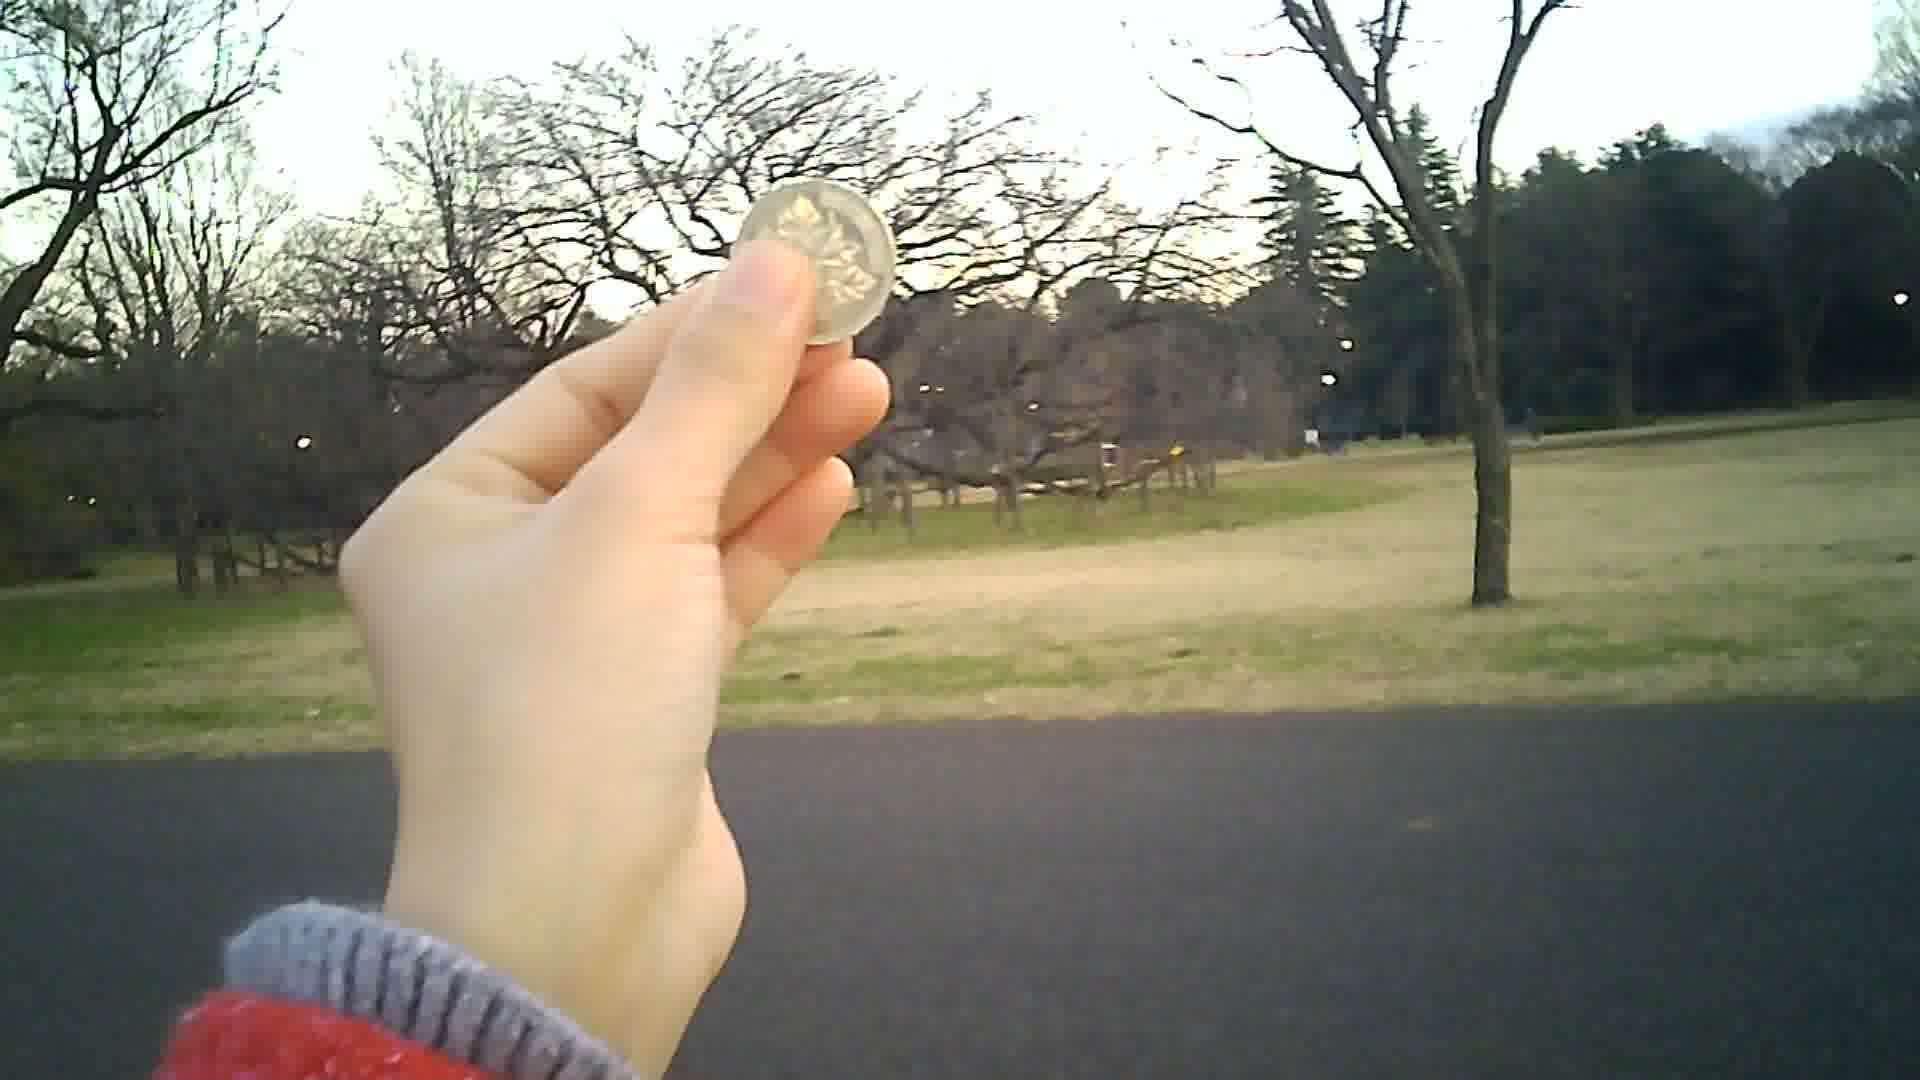500 Yen: (732, 181, 901, 349)
